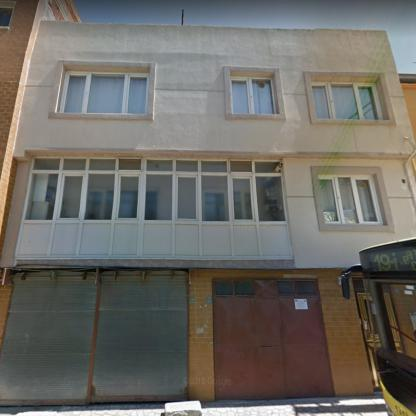door: (213, 297, 332, 401)
window: (15, 156, 291, 258), (58, 70, 149, 113), (318, 173, 384, 224), (311, 81, 385, 121), (213, 280, 318, 298), (230, 77, 279, 114)
